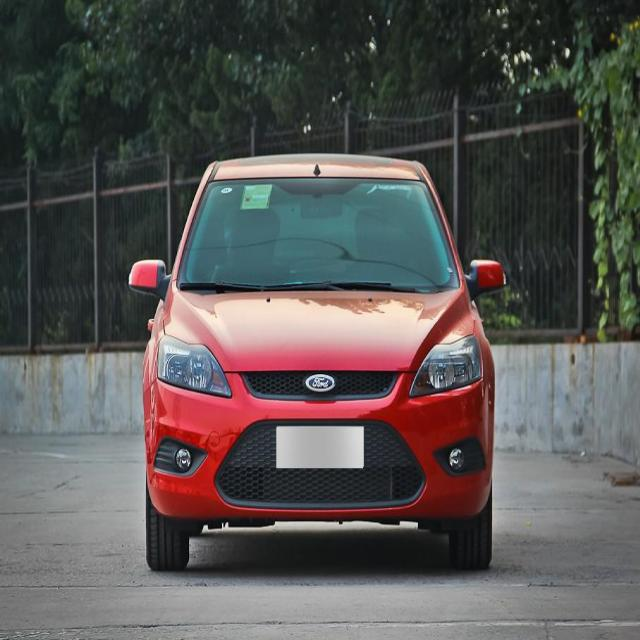front_bumper: (143, 380, 495, 520)
front_glass: (175, 176, 462, 294)
front_left_side_light: (408, 334, 483, 400)
front_left_side_mirror: (464, 258, 507, 298)
front_right_side_light: (154, 332, 232, 400)
front_right_side_mirror: (128, 258, 168, 298)
